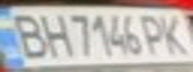1: (87, 10, 109, 56)
4: (106, 10, 130, 56)
6: (121, 10, 148, 56)
7: (66, 10, 93, 57)
B: (0, 9, 54, 61)
H: (30, 9, 72, 58)
K: (154, 11, 193, 56)
P: (136, 11, 172, 56)
